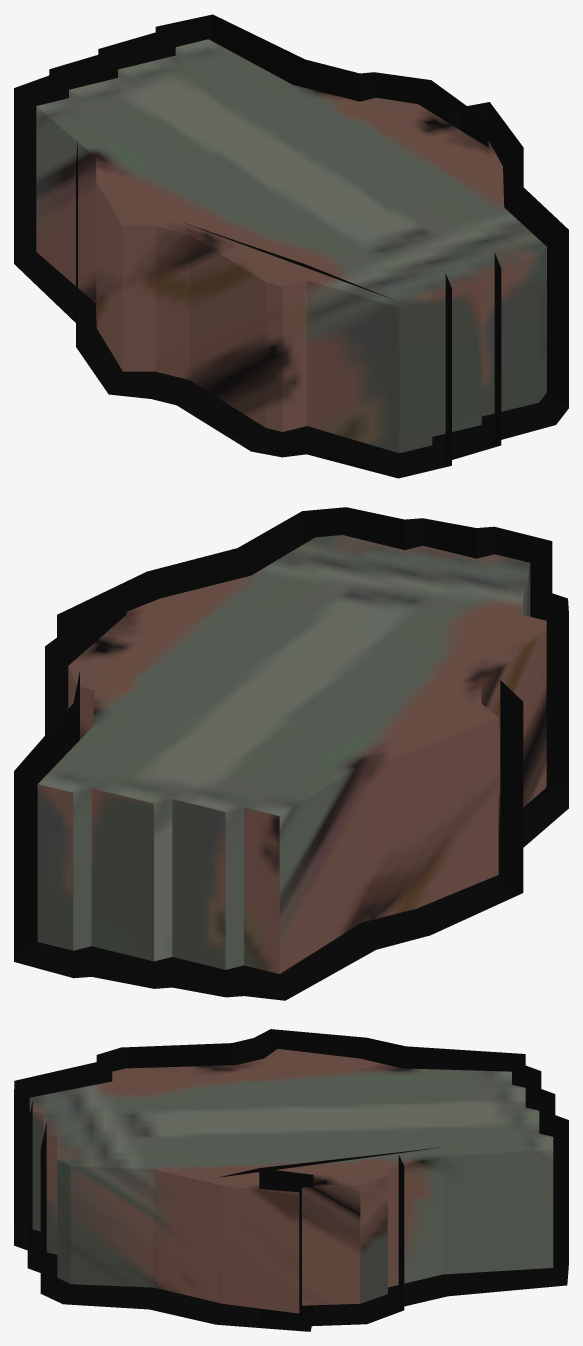
The model's file is Building_AncientMilitaryCrate_Things_Building_Ruins_AncientMilitaryCrate_AncientMilitaryCrateA.glb.
3 views of the same model, one above another, from view 1: azimuth 30°, elevation 25°; view 2: azimuth 150°, elevation 25°; view 3: azimuth 270°, elevation 25° (orthographic). The views are drawn at different scales.
Visible parts, largest first — view 1: Body, Outline; view 2: Body, Outline; view 3: Body, Outline.
Part boxes in pixels (left/top/right/bottom): Body: left=36, top=39, right=546, bottom=453; Outline: left=14, top=14, right=568, bottom=478; Body: left=37, top=535, right=546, bottom=973; Outline: left=14, top=507, right=568, bottom=1000; Body: left=29, top=1049, right=553, bottom=1313; Outline: left=14, top=1029, right=568, bottom=1331.
Size of the model in its own units: 0.7693 by 0.3576 by 1.12.
2 materials, 1 textured.
